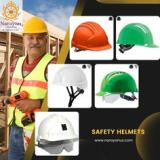Helmet: (36, 113, 80, 144), (70, 21, 112, 51), (116, 22, 160, 49), (95, 70, 138, 97), (51, 64, 88, 90), (21, 16, 49, 37)
Vest: (6, 54, 56, 130)
